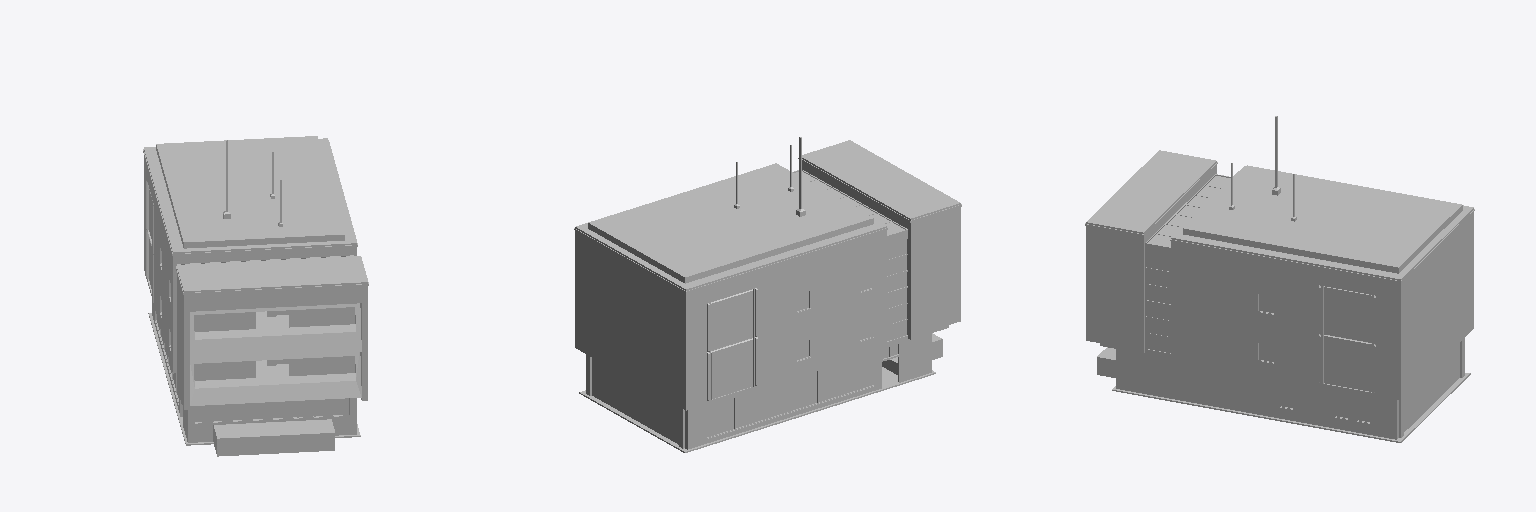
File: BuildingLow.obj
3 views of the same model, side by side, from view 1: azimuth 30°, elevation 25°; view 2: azimuth 150°, elevation 25°; view 3: azimuth 270°, elevation 25° (orthographic).
Visible parts, largest first — view 1: Residential_Buildings_001_Cube.001; view 2: Residential_Buildings_001_Cube.001; view 3: Residential_Buildings_001_Cube.001.
Part boxes in pixels (x1,y1,x2,y2): Residential_Buildings_001_Cube.001: (143,136,368,456); Residential_Buildings_001_Cube.001: (574,137,961,452); Residential_Buildings_001_Cube.001: (1085,116,1474,442).
Bounding box in the file's own units: 4.92 × 4.4 × 6.23.